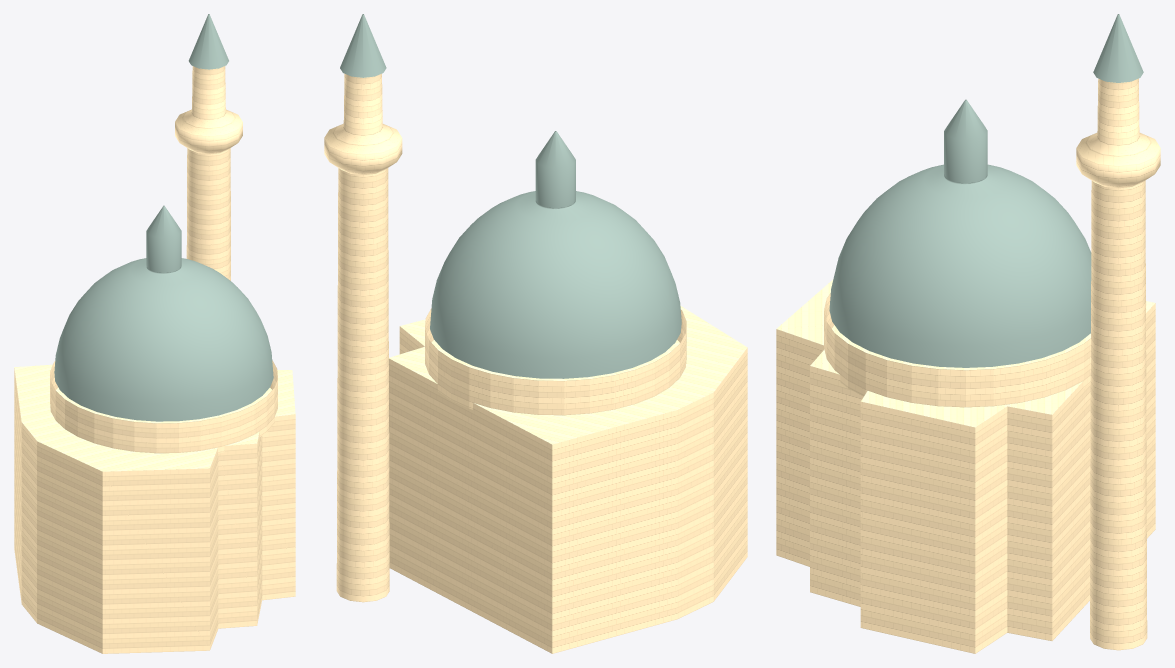
The model's file is landmark-martyrs-mosque.glb.
The picture shows the model from 3 angles, left to right: view 1: azimuth 30°, elevation 25°; view 2: azimuth 150°, elevation 25°; view 3: azimuth 270°, elevation 25°; orthographic projection. The views are drawn at different scales.
Parts seen in each view (by area): view 1: martyrs-mosque; view 2: martyrs-mosque; view 3: martyrs-mosque.
Part boxes in pixels (x1,y1,x2,y2): martyrs-mosque: [14, 14, 295, 653]; martyrs-mosque: [324, 14, 747, 653]; martyrs-mosque: [776, 14, 1160, 653].
Bounding box in the file's own units: 22.78 × 40.81 × 22.79.
Materials: 2 (1 with a texture image).
